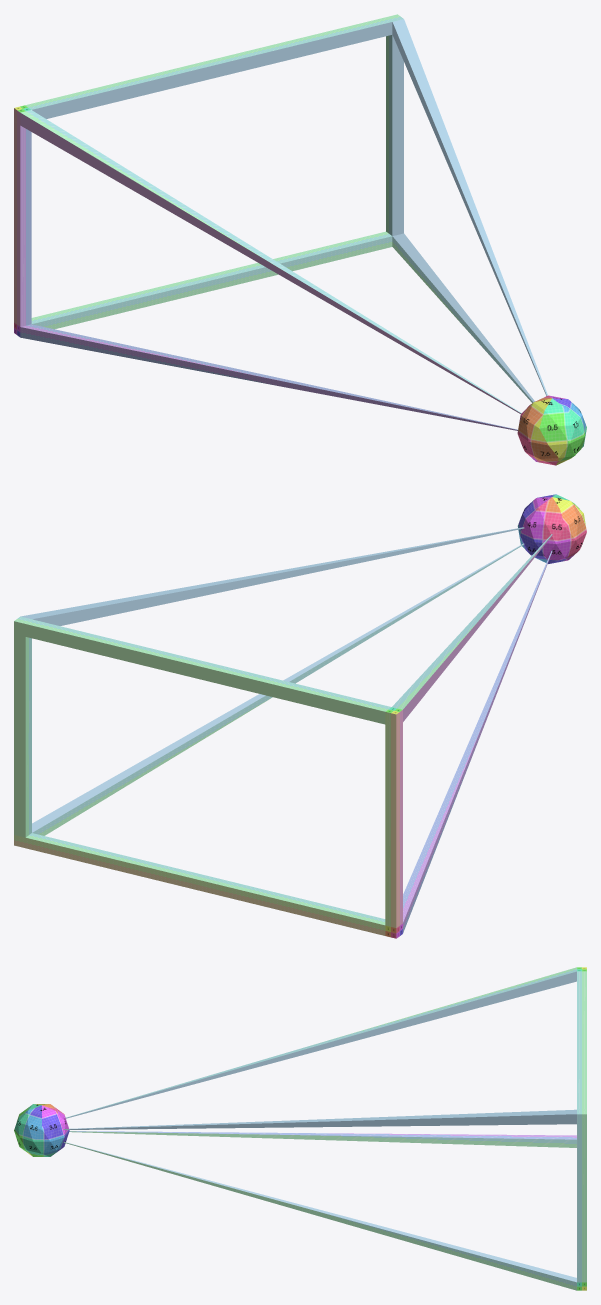
File: Camera.obj
3 views of the same model, one above another, from view 1: azimuth 30°, elevation 25°; view 2: azimuth 150°, elevation 25°; view 3: azimuth 270°, elevation 25° (orthographic). The views are drawn at different scales.
Parts seen in each view (by area): view 1: 立方体, ICO球; view 2: 立方体, ICO球; view 3: 立方体, ICO球.
Boxes of the visible parts, left/top/right/bottom form: 立方体: left=14, top=14, right=547, bottom=430; ICO球: left=517, top=395, right=586, bottom=465; 立方体: left=14, top=527, right=552, bottom=938; ICO球: left=517, top=494, right=586, bottom=563; 立方体: left=63, top=967, right=586, bottom=1290; ICO球: left=14, top=1104, right=69, bottom=1156.
Size of the model in its own units: 0.3124 by 0.175 by 0.5148.
Materials: 1 (1 with a texture image).
